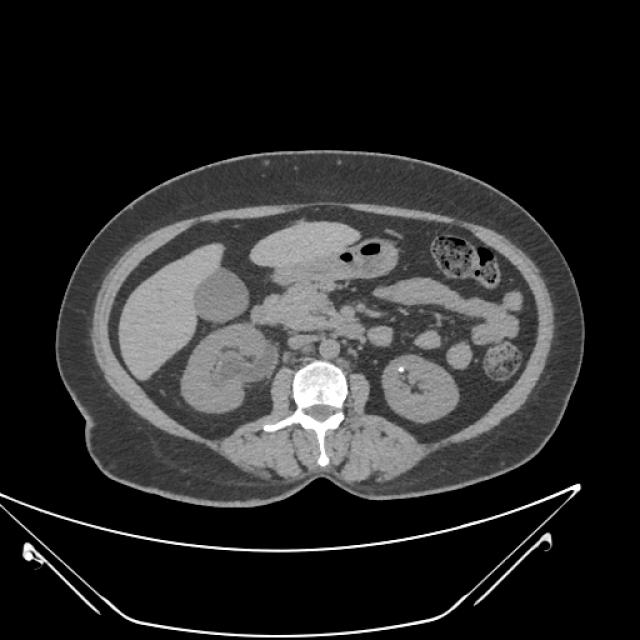kidney: (176, 322, 281, 413), (382, 351, 459, 425)
stone: (397, 361, 407, 373)
